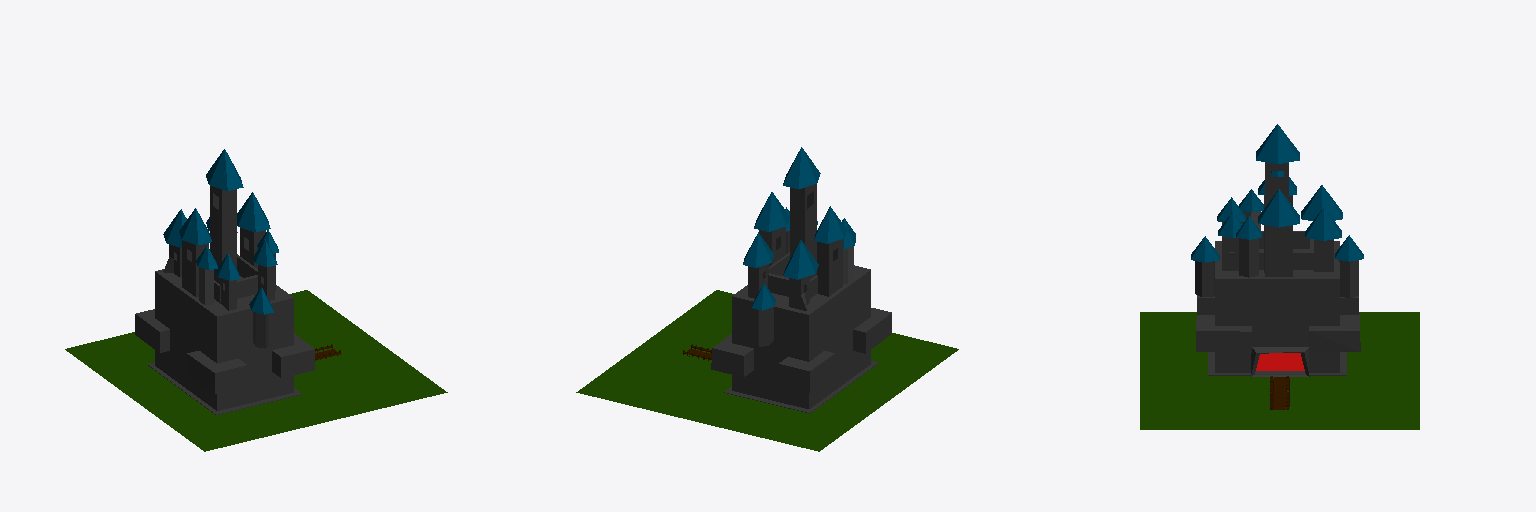
Rendered from castillotexturas.obj.
3 renders of one model, left to right at view 1: azimuth 30°, elevation 25°; view 2: azimuth 150°, elevation 25°; view 3: azimuth 270°, elevation 25°, orthographic.
Parts seen in each view (by area): view 1: tierra, pCube1 castillo, castillo pCube35, tejas pCone1, castillo pPlane2, tejas pCone2, tejas pCone3, castillo pCylinder5, castillo pCylinder4; view 2: tierra, pCube1 castillo, castillo pCube35, tejas pCone1, castillo pPlane2, tejas pCone2, tejas pCone5, tejas pCone3, tejas teja4, castillo pCylinder6; view 3: tierra, pCube1 castillo, tejas pCone1, tejas pCone2, castillo pPlane2, tejas pCone5, castillo pCube35, tejas teja4, castillo pCylinder1, castillo pCylinder5, castillo pCylinder6, tejas puente.
Part boxes in pixels (x1,y1,x2,y2): tierra: (65,290,447,451); pCube1 castillo: (135,228,314,414); castillo pCube35: (210,186,236,283); tejas pCone1: (206,149,243,190); castillo pPlane2: (214,254,263,302); tejas pCone2: (237,192,270,232); tejas pCone3: (179,208,211,245); castillo pCylinder5: (253,312,268,348); castillo pCylinder4: (199,267,213,304); tierra: (576,290,958,451); pCube1 castillo: (711,227,891,413); castillo pCube35: (790,184,816,278); tejas pCone1: (783,147,820,189); castillo pPlane2: (763,252,817,298); tejas pCone2: (754,192,789,231); tejas pCone5: (783,240,818,279); tejas pCone3: (814,206,846,243); tejas teja4: (743,232,773,267); castillo pCylinder6: (758,307,773,346); tierra: (1140,312,1419,429); pCube1 castillo: (1196,195,1360,376); tejas pCone1: (1256,124,1299,163); tejas pCone2: (1258,189,1299,227); castillo pPlane2: (1259,231,1313,269); tejas pCone5: (1301,185,1342,220); castillo pCube35: (1265,162,1288,241); tejas teja4: (1305,207,1341,240); castillo pCylinder1: (1239,238,1258,277); castillo pCylinder5: (1195,261,1214,296); castillo pCylinder6: (1339,260,1358,297); tejas puente: (1270,376,1289,409).
Bounding box in the file's own units: 1476 × 1351 × 1476.